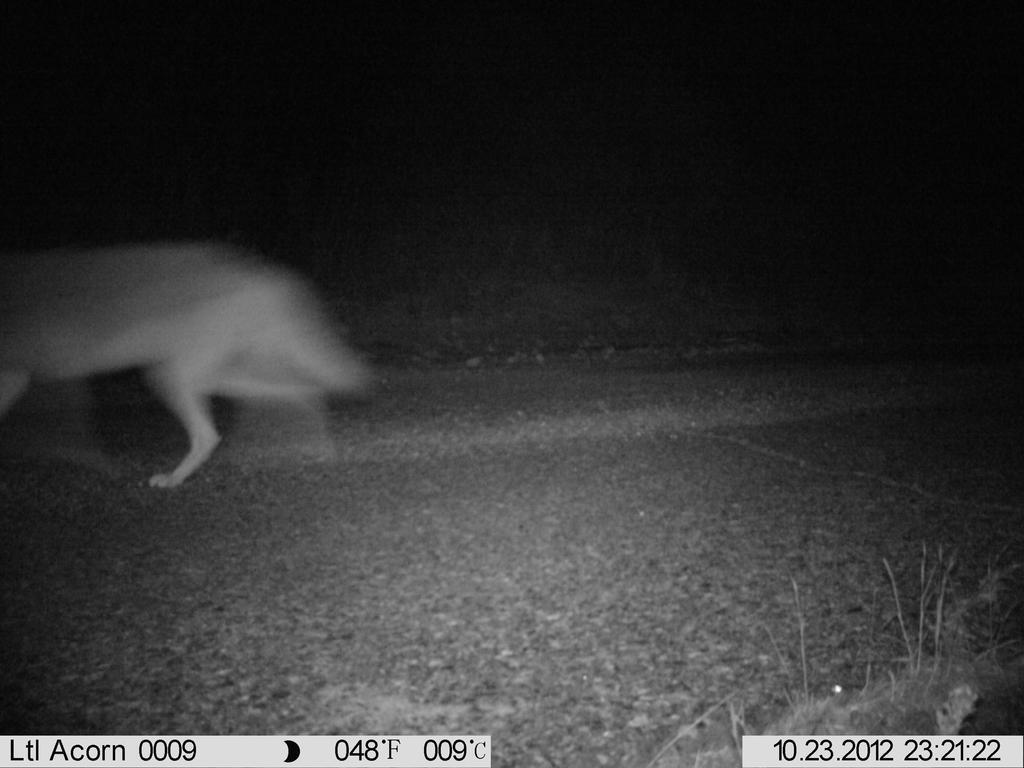coyote: (9, 235, 379, 495)
